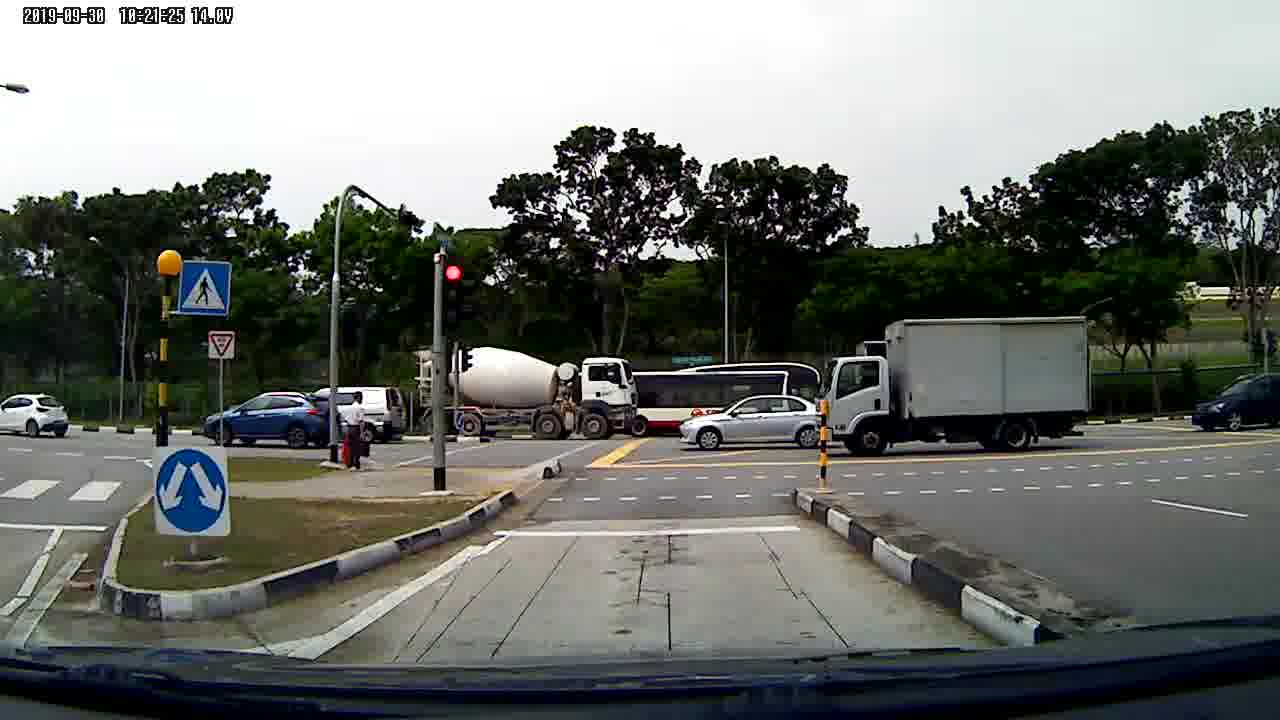bus: (634, 364, 824, 438)
car: (673, 395, 824, 457), (201, 391, 337, 456), (1186, 373, 1280, 428), (1, 396, 73, 442)
